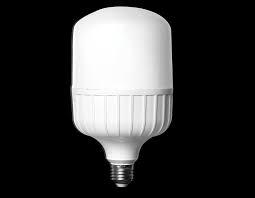Lamp: (61, 3, 177, 195)
